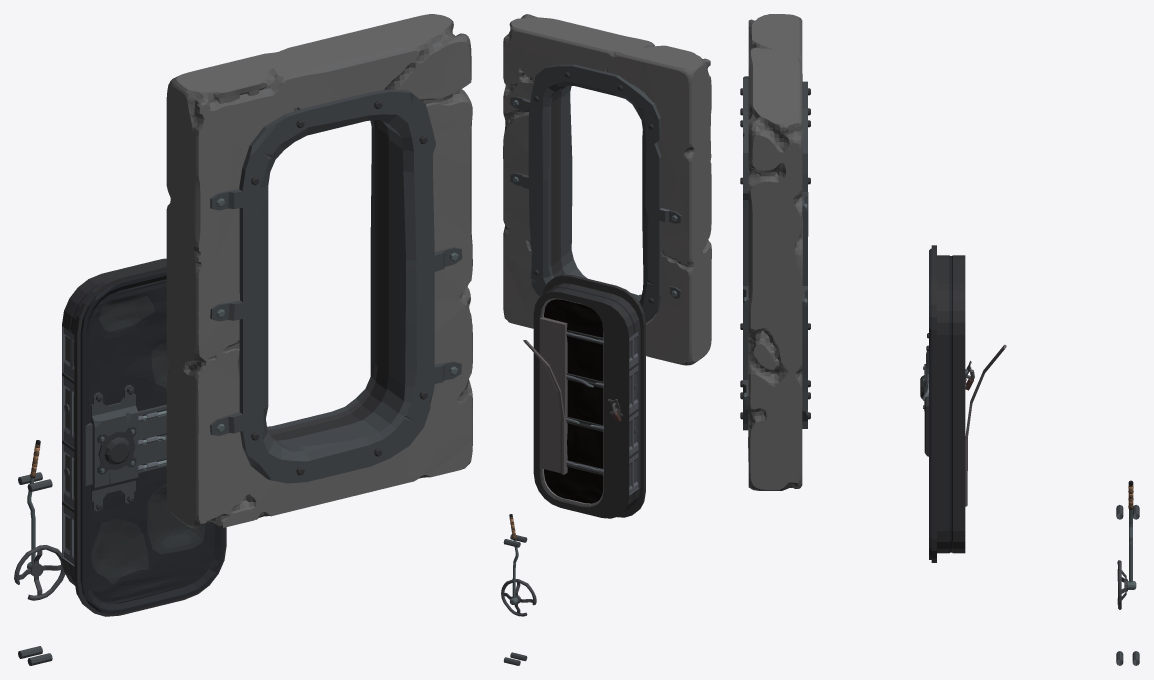
The model's file is SM_Concrete_Door_Broken_Lvl_1.glb.
The picture shows the model from 3 angles, left to right: view 1: azimuth 30°, elevation 25°; view 2: azimuth 150°, elevation 25°; view 3: azimuth 270°, elevation 25°; orthographic projection. The views are drawn at different scales.
Parts seen in each view (by area): view 1: SM_Concrete_Door_Broken_Lvl_1, SM_Hуavy_Door_Broken_Broken_Lvl_1, SM_Wheel_For_Heavy_Door_Broken_Broken_Lvl_1, SM_Shutters_For_Heavy_Door_Broken_Broken_Lvl_1; view 2: SM_Concrete_Door_Broken_Lvl_1, SM_Hуavy_Door_Broken_Broken_Lvl_1, SM_Wheel_For_Heavy_Door_Broken_Broken_Lvl_1, SM_Shutters_For_Heavy_Door_Broken_Broken_Lvl_1, SM_Arm_For_Heavy_Door_Broken_Lvl_1; view 3: SM_Concrete_Door_Broken_Lvl_1, SM_Hуavy_Door_Broken_Broken_Lvl_1.
Boxes of the visible parts, x1,y1,x2,y2 form: SM_Concrete_Door_Broken_Lvl_1: (166,14,472,528); SM_Hуavy_Door_Broken_Broken_Lvl_1: (62,258,226,616); SM_Wheel_For_Heavy_Door_Broken_Broken_Lvl_1: (14,545,65,600); SM_Shutters_For_Heavy_Door_Broken_Broken_Lvl_1: (18,472,52,665); SM_Concrete_Door_Broken_Lvl_1: (503,14,711,365); SM_Hуavy_Door_Broken_Broken_Lvl_1: (523,274,645,518); SM_Wheel_For_Heavy_Door_Broken_Broken_Lvl_1: (501,579,536,616); SM_Shutters_For_Heavy_Door_Broken_Broken_Lvl_1: (503,534,527,665); SM_Arm_For_Heavy_Door_Broken_Lvl_1: (509,514,518,604); SM_Concrete_Door_Broken_Lvl_1: (740,14,810,490); SM_Hуavy_Door_Broken_Broken_Lvl_1: (920,245,1006,562).
Bounding box in the file's own units: 2.08 × 5.11 × 2.97.
1 material, 1 textured.
